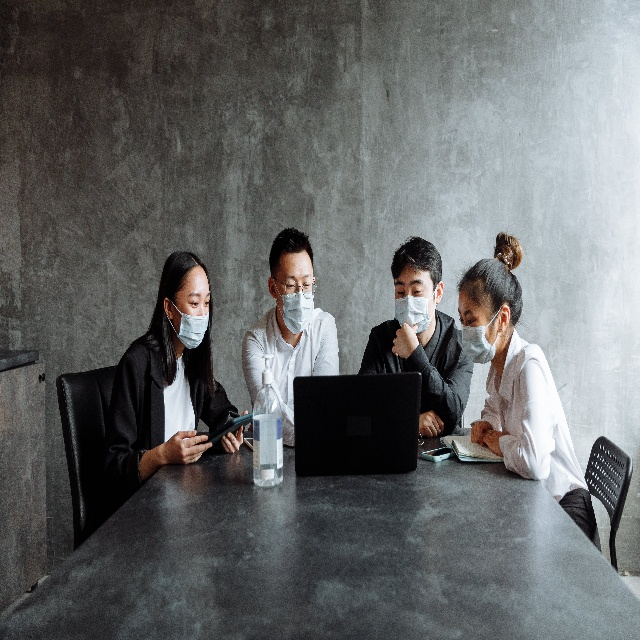Gafas: (272, 276, 317, 299)
Mascara: (460, 305, 505, 365), (271, 277, 315, 336), (393, 282, 441, 334), (165, 297, 211, 348)
Sin_guantes: (164, 429, 212, 465), (220, 408, 248, 455), (390, 323, 419, 360), (482, 424, 509, 459), (417, 410, 444, 440), (470, 420, 491, 446)
